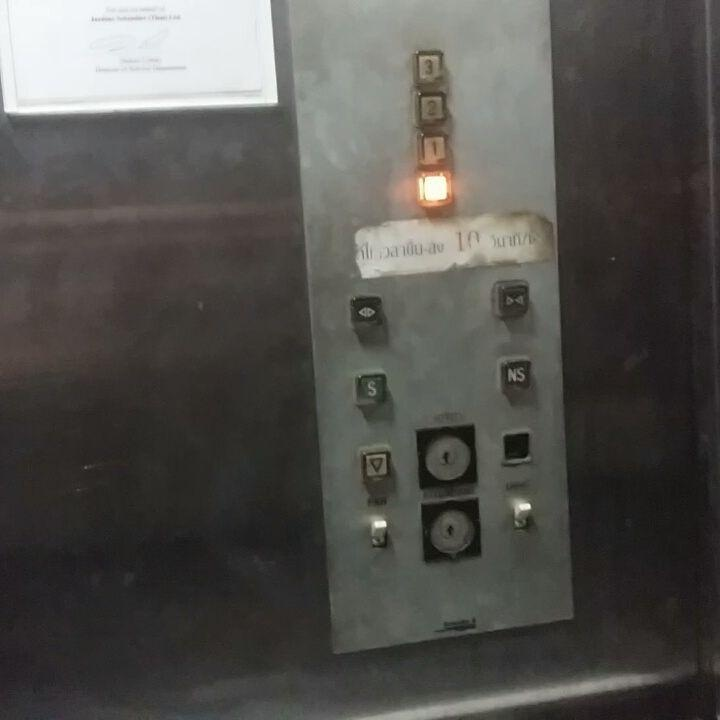1: (418, 134, 449, 165)
2: (419, 93, 445, 124)
3: (414, 51, 443, 83)
NS: (497, 358, 534, 396)
S: (354, 369, 390, 410)
bt_keyhole: (419, 497, 484, 563), (417, 423, 475, 487)
close: (494, 281, 530, 320)
down: (360, 447, 392, 484)
empty: (501, 431, 533, 464), (422, 173, 450, 203)
open: (349, 293, 385, 329)
switch: (508, 497, 533, 530), (368, 516, 389, 548)
